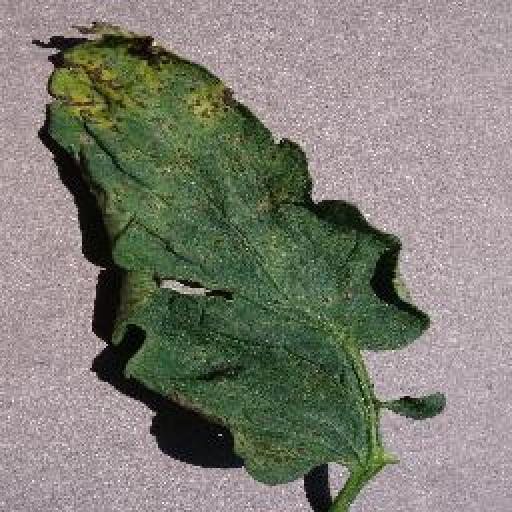disease_tomato: (44, 20, 447, 484)
